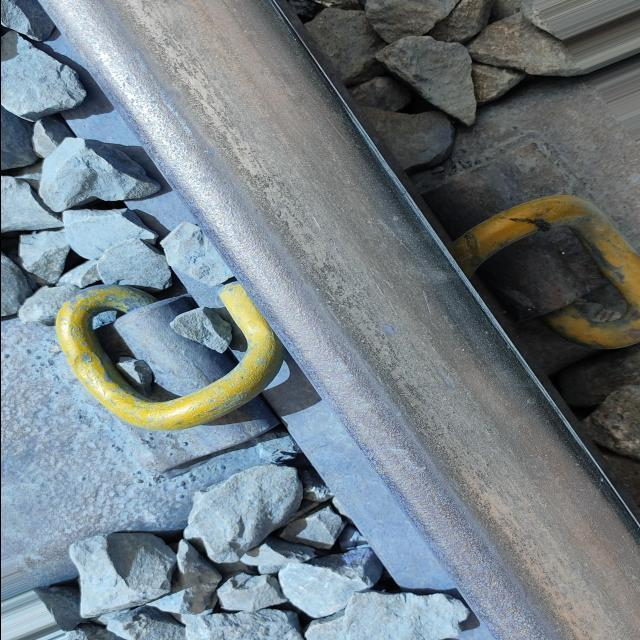broken_rail_medium: (382, 325, 398, 337)
